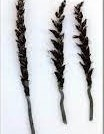Wheat Loose Smut: (12, 6, 98, 94)
